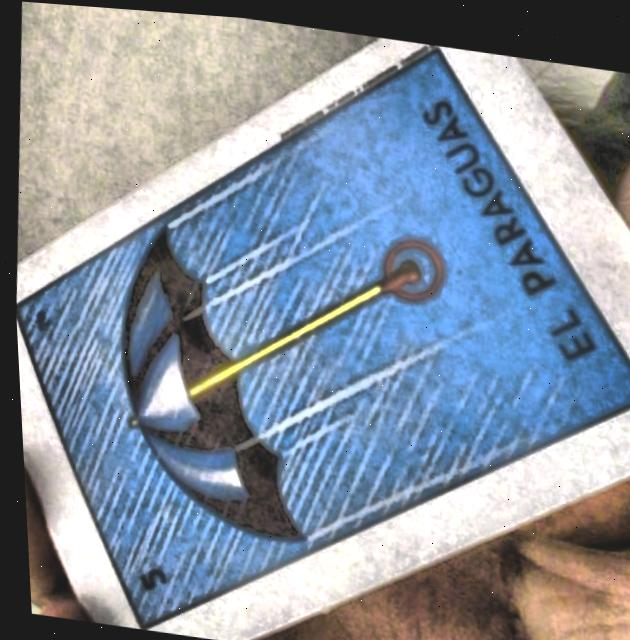El Paraguas: (13, 40, 630, 623)
